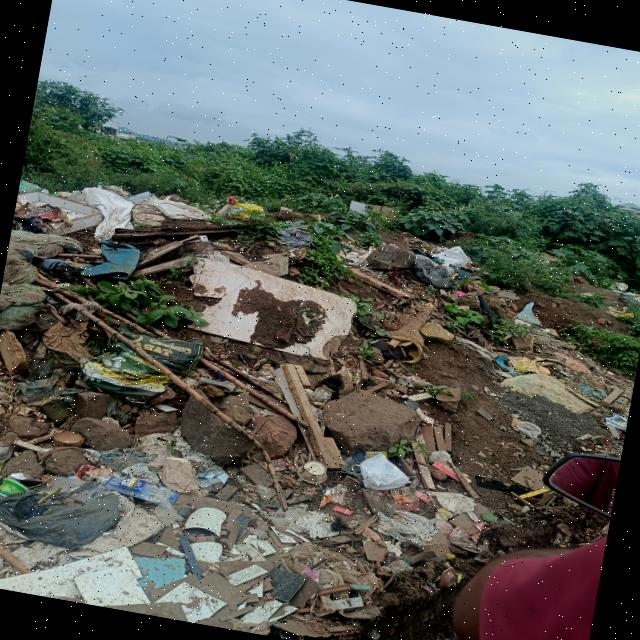garbage: (0, 360, 495, 640), (0, 160, 313, 365), (319, 226, 559, 374)
